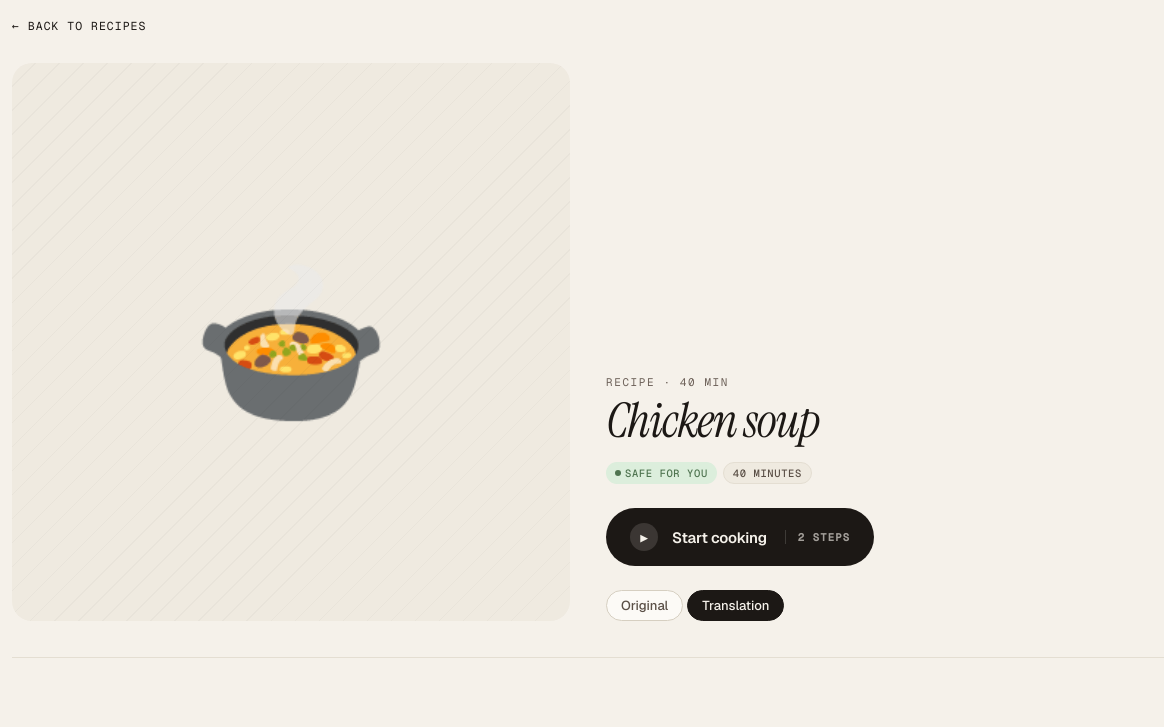
RecipeDetailView – Bulgarian recipe for an English reader › shows the Bulgarian name (not the nameEn match-key) on the Original tab
The width and height of the screenshot is (1164, 727).
Click the button "Original" at (645, 606), box [606, 590, 683, 621]
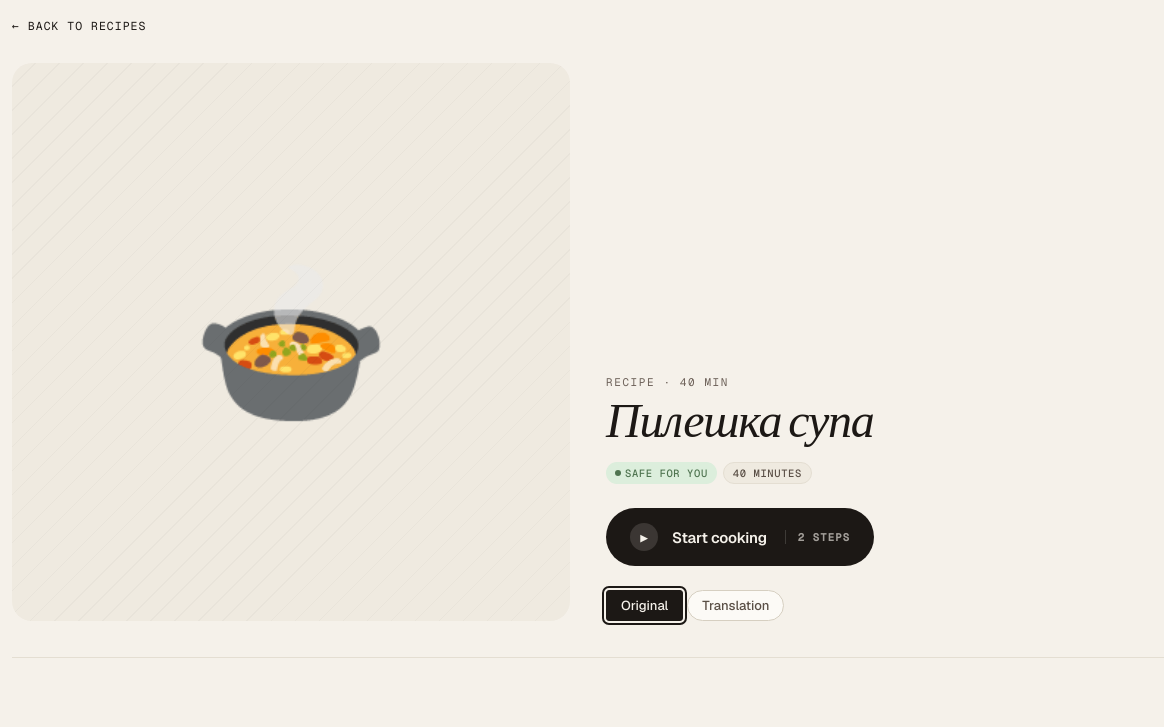
Expected: the heading "Пилешка супа" is shown, [606, 389, 874, 452]
